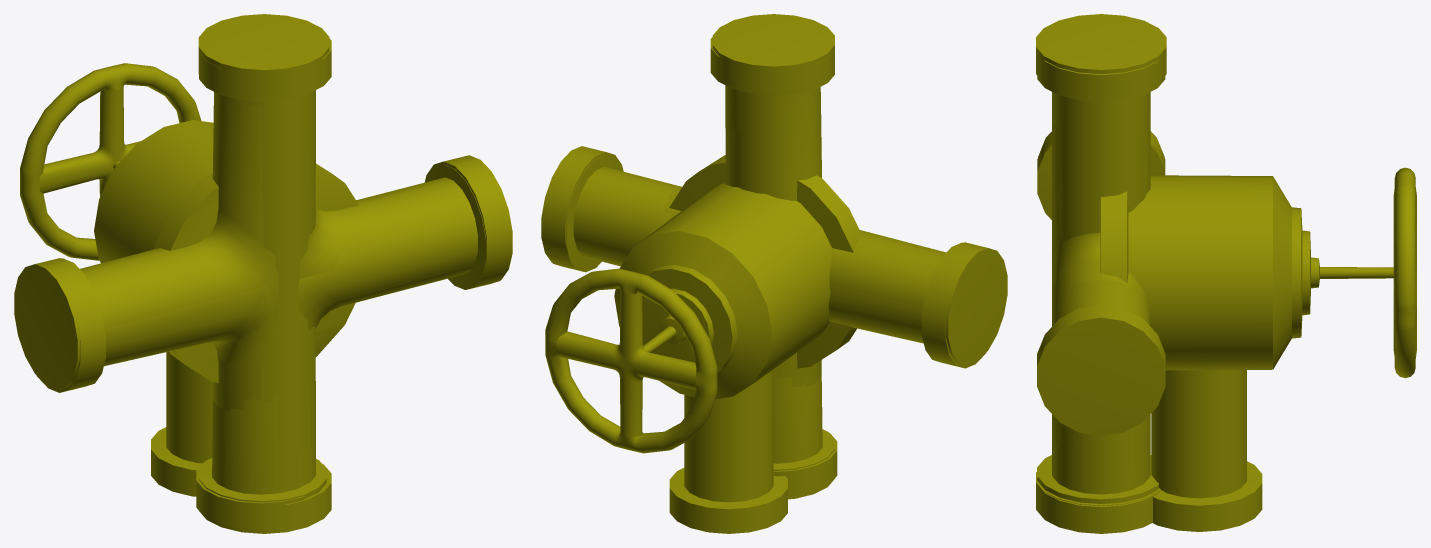
File: Box Modulars_01.FBX
3 views of the same model, side by side, from view 1: azimuth 30°, elevation 25°; view 2: azimuth 150°, elevation 25°; view 3: azimuth 270°, elevation 25° (orthographic). The views are drawn at different scales.
Visible parts, largest first — view 1: pipe modular 04, valve modular 01, pipe modular 02, pipe modular 01, pipe modular 03; view 2: valve modular 01, pipe modular 04, pipe modular 02, pipe modular 01, pipe modular 03; view 3: valve modular 01, pipe modular 03, pipe modular 02, pipe modular 01, pipe modular 04.
Boxes of the visible parts, <box> form: pipe modular 04: <box>14,53,507,502</box>; valve modular 01: <box>20,63,358,496</box>; pipe modular 02: <box>196,155,512,530</box>; pipe modular 01: <box>198,14,329,533</box>; pipe modular 03: <box>37,39,331,525</box>; valve modular 01: <box>545,155,862,533</box>; pipe modular 04: <box>546,50,1007,470</box>; pipe modular 02: <box>541,146,837,496</box>; pipe modular 01: <box>712,14,834,499</box>; pipe modular 03: <box>710,37,986,368</box>; valve modular 01: <box>1100,167,1416,531</box>; pipe modular 03: <box>1037,60,1165,533</box>; pipe modular 02: <box>1037,271,1165,489</box>; pipe modular 01: <box>1036,14,1166,518</box>; pipe modular 04: <box>1038,131,1164,503</box>.
Size of the model in its own units: 23.55 by 24.05 by 17.88.
